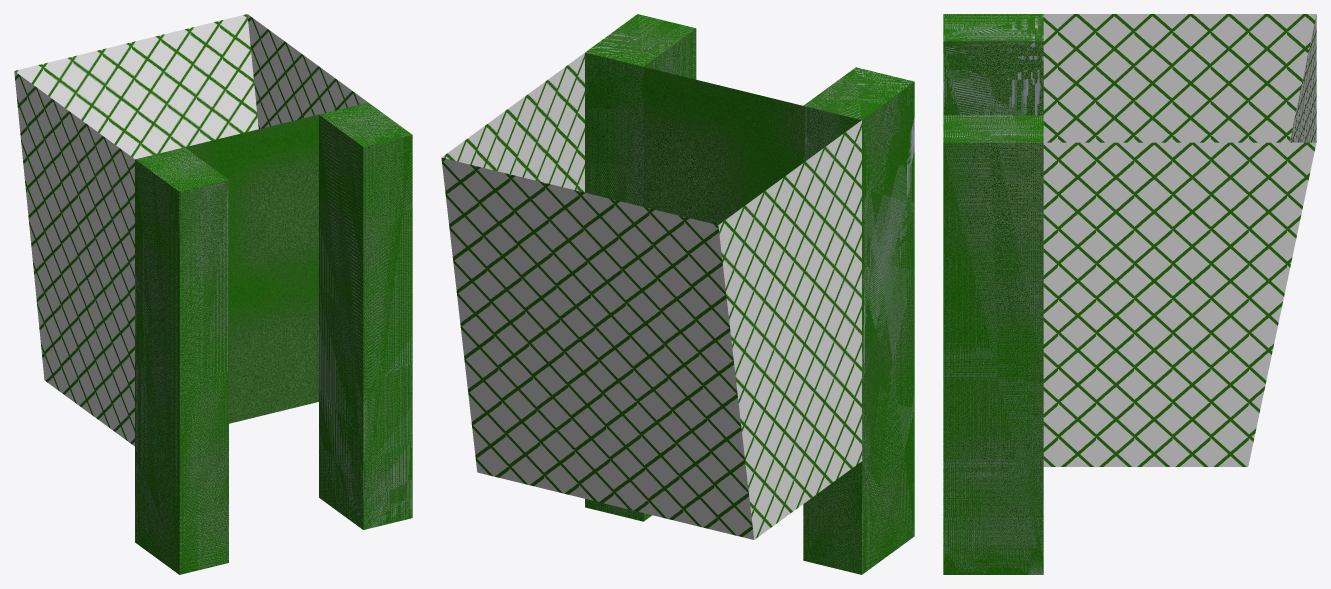
Rendered from poubelle_dae.dae.
3 views of the same model, side by side, from view 1: azimuth 30°, elevation 25°; view 2: azimuth 150°, elevation 25°; view 3: azimuth 270°, elevation 25° (orthographic). The views are drawn at different scales.
Visible parts, largest first — view 1: SketchUp (×4); view 2: SketchUp (×4); view 3: SketchUp (×3).
Boxes of the visible parts, x1,y1,x2,y2 form: SketchUp (×4): (14, 14, 412, 574); SketchUp (×4): (441, 14, 914, 574); SketchUp (×3): (943, 14, 1316, 574).
Bounding box in the file's own units: 12.54 × 15.39 × 19.69.
Materials: 3 (2 with a texture image).
